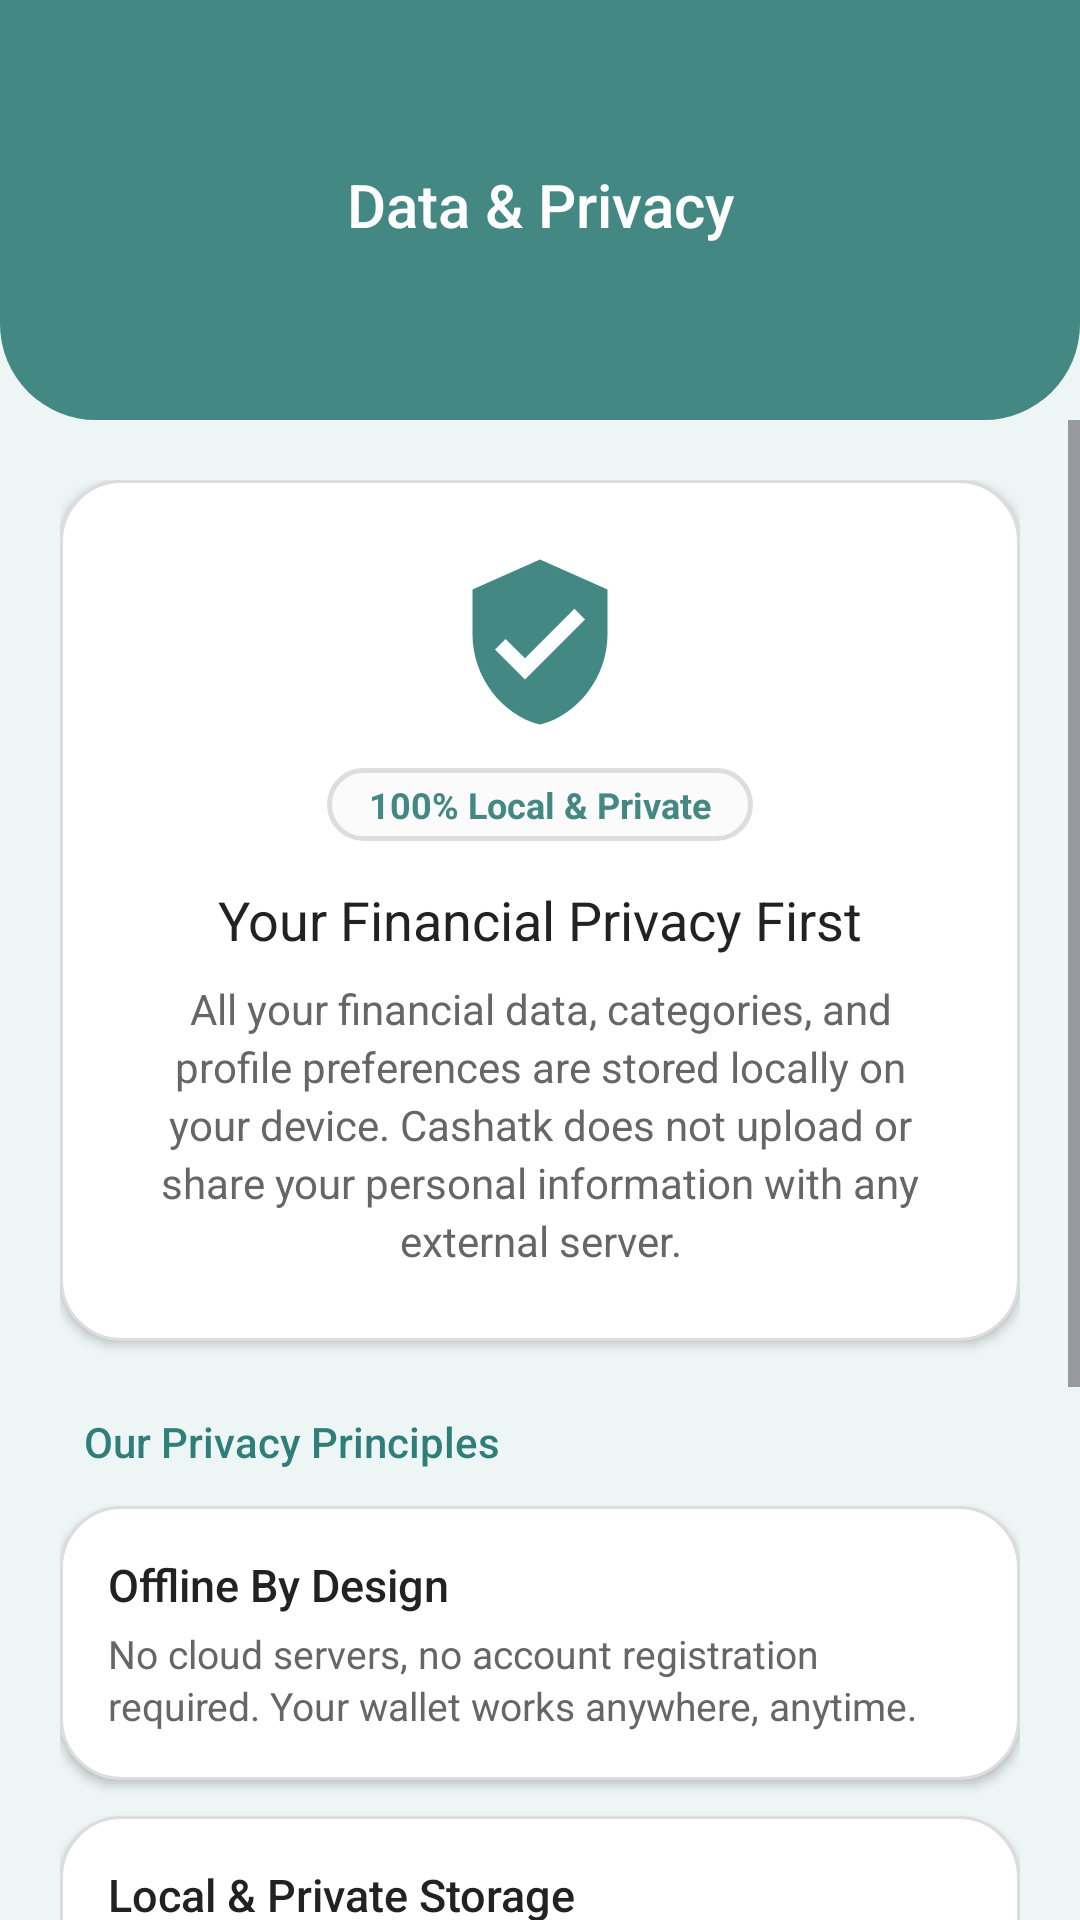

Screen size 1080w x 1920h. Icon name, then its center in pixels as [x,y]:
Data & Privacy: [540,642]
